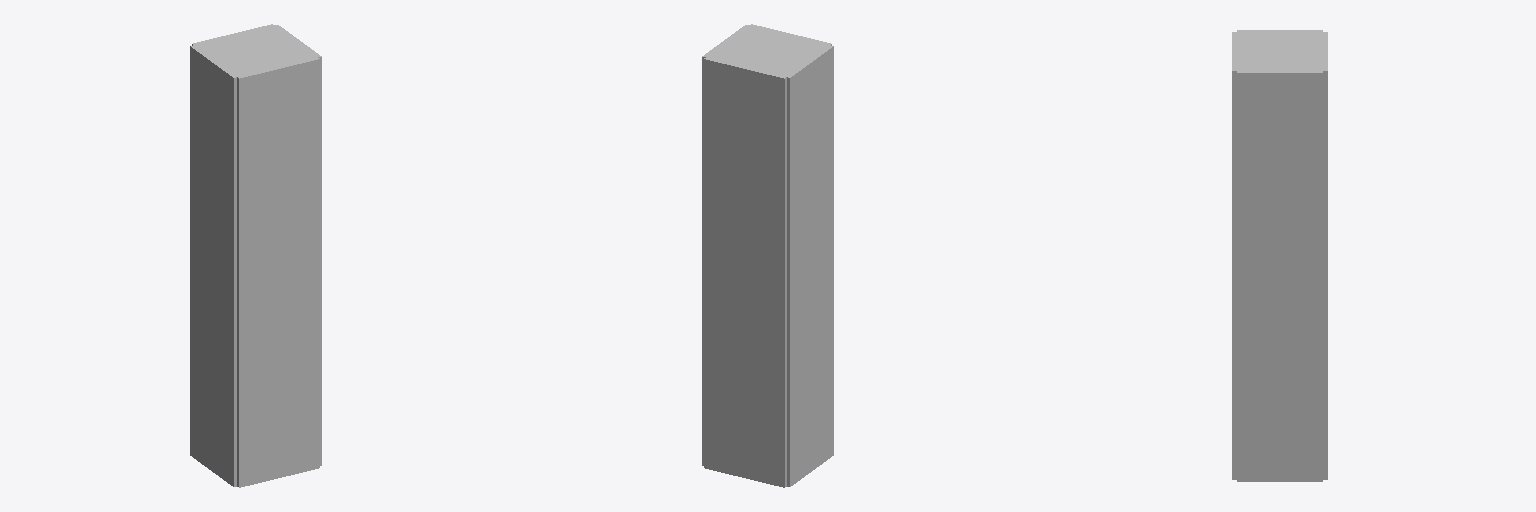
The model's file is _Tree.obj.
3 renders of one model, left to right at view 1: azimuth 30°, elevation 25°; view 2: azimuth 150°, elevation 25°; view 3: azimuth 270°, elevation 25°, orthographic.
Parts seen in each view (by area): view 1: object 1; view 2: object 1; view 3: object 1.
Part boxes in pixels (left/top/right/bottom): object 1: left=190, top=24, right=321, bottom=487; object 1: left=702, top=24, right=833, bottom=487; object 1: left=1232, top=30, right=1327, bottom=481.
Bounding box in the file's own units: 4.8 × 21.3 × 4.5.